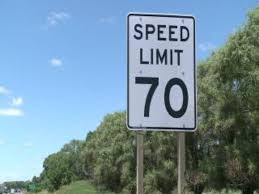speedLimit70: (124, 12, 198, 132)
